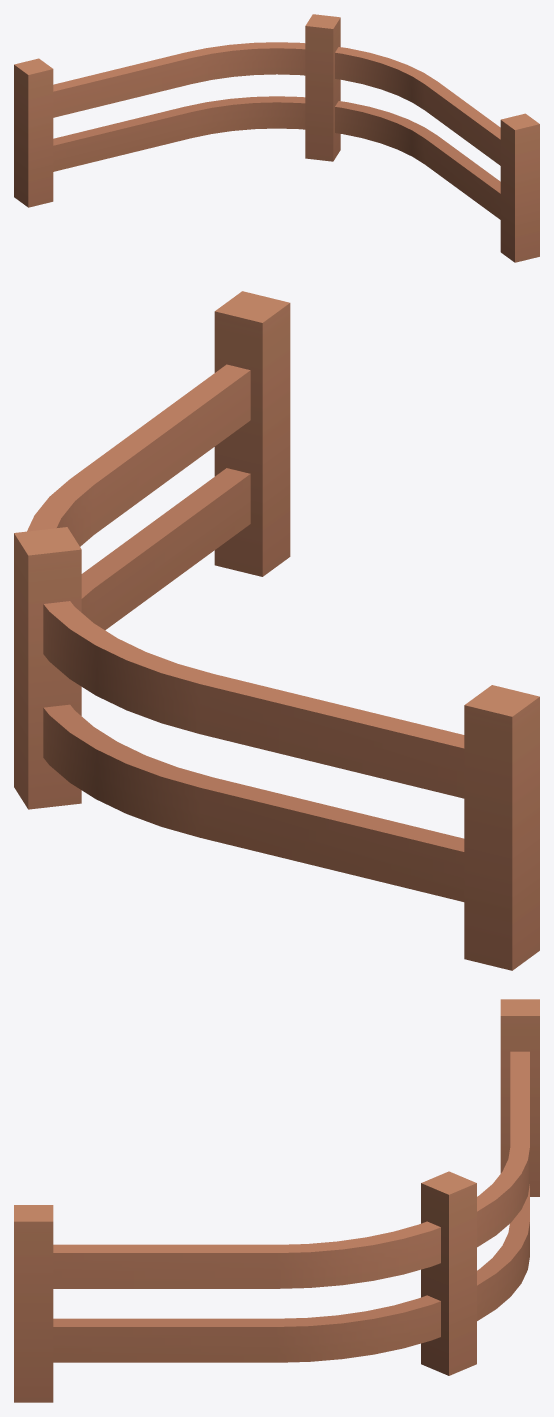
File: fence-curved.glb
3 renders of one model, top to bottom at view 1: azimuth 30°, elevation 25°; view 2: azimuth 150°, elevation 25°; view 3: azimuth 270°, elevation 25°, orthographic. The views are drawn at different scales.
Visible parts, largest first — view 1: fence-curved; view 2: fence-curved; view 3: fence-curved.
Boxes of the visible parts, x1=… form: fence-curved: x1=14, y1=14, x2=539, y2=262; fence-curved: x1=14, y1=291, x2=539, y2=970; fence-curved: x1=14, y1=999, x2=539, y2=1402.
Bounding box in the file's own units: 1 × 0.38 × 1.
Materials: 1 (1 with a texture image).
